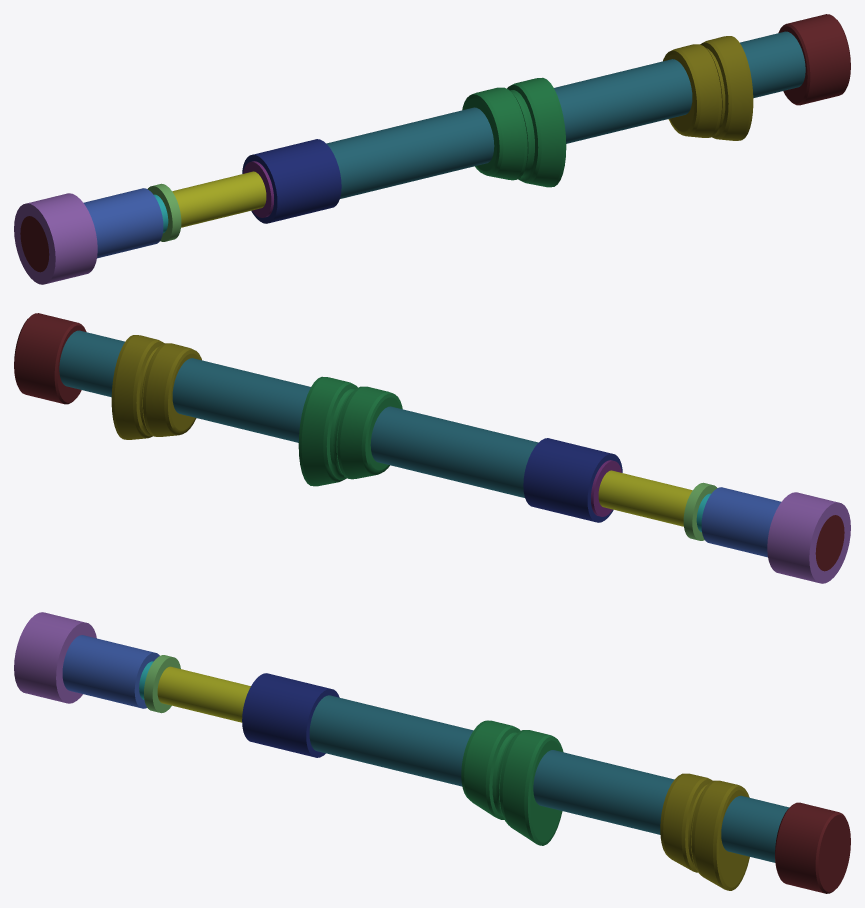
The model's file is Misc_06.fbx.
The picture shows the model from 3 angles, top to bottom: view 1: azimuth 30°, elevation 25°; view 2: azimuth 150°, elevation 25°; view 3: azimuth 330°, elevation 25°; orthographic projection.
Visible parts, largest first — view 1: SetA_Misc_06; view 2: SetA_Misc_06; view 3: SetA_Misc_06.
Part boxes in pixels (x1=…): SetA_Misc_06: x1=14, y1=14, x2=850, y2=284; SetA_Misc_06: x1=14, y1=313, x2=850, y2=583; SetA_Misc_06: x1=14, y1=612, x2=850, y2=893.
Bounding box in the file's own units: 0.7763 × 0.0989 × 0.0701.
